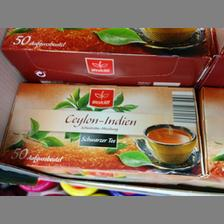Tee: (0, 80, 204, 184)
